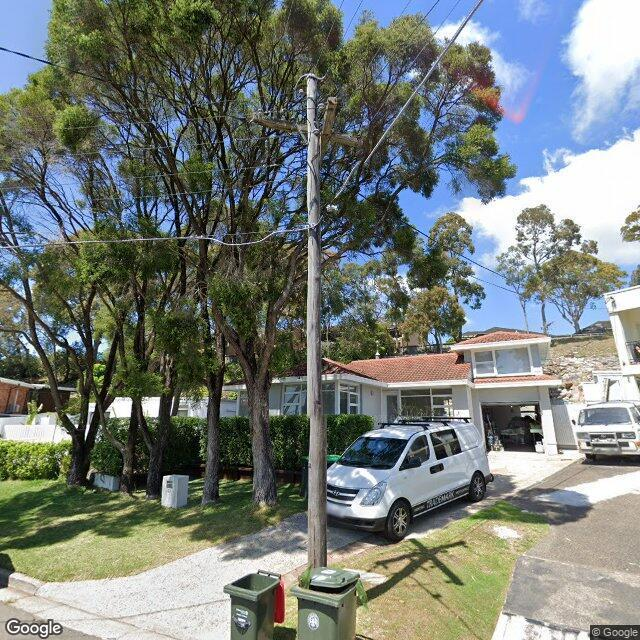crossarm: (255, 112, 361, 150), (319, 96, 338, 156)
timber-pole: (305, 72, 328, 566)
